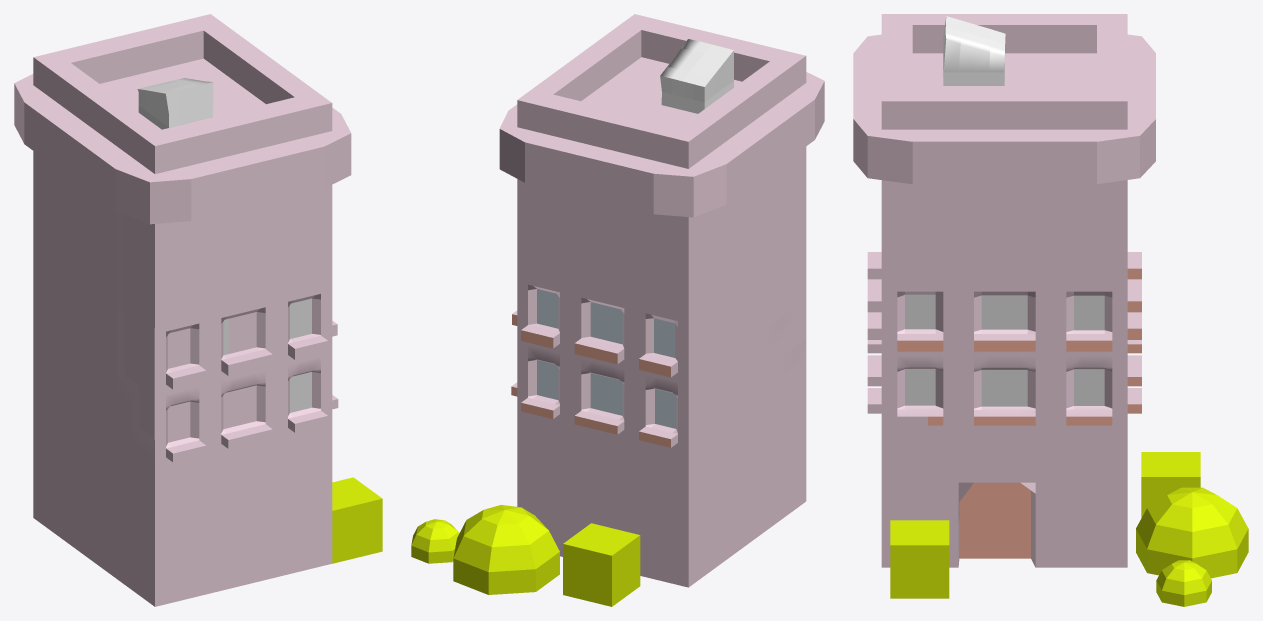
File: pinkbuilding3_maya_to_unity.fbx
The picture shows the model from 3 angles, left to right: view 1: azimuth 30°, elevation 25°; view 2: azimuth 150°, elevation 25°; view 3: azimuth 270°, elevation 25°; orthographic projection. The views are drawn at different scales.
Parts seen in each view (by area): view 1: ab:building_two, pCube2; view 2: ab:building_two, pSphere3, pCube5, pSphere5; view 3: ab:building_two, pSphere3, pCube2, pCube5, pSphere5.
Boxes of the visible parts, bbox=[...] form: ab:building_two: bbox=[14, 14, 351, 606]; pCube2: bbox=[332, 477, 382, 563]; ab:building_two: bbox=[499, 14, 824, 587]; pSphere3: bbox=[453, 504, 559, 594]; pCube5: bbox=[563, 523, 640, 606]; pSphere5: bbox=[411, 519, 459, 563]; ab:building_two: bbox=[853, 14, 1155, 567]; pSphere3: bbox=[1136, 487, 1248, 578]; pCube2: bbox=[890, 520, 949, 598]; pCube5: bbox=[1141, 452, 1200, 517]; pSphere5: bbox=[1156, 560, 1211, 606].
Size of the model in its own units: 2.72 by 4.47 by 3.27.
